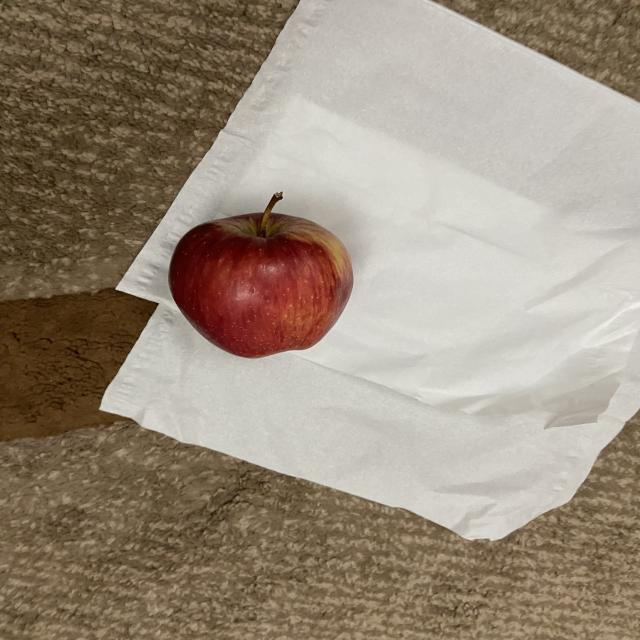apple: (168, 192, 362, 362)
